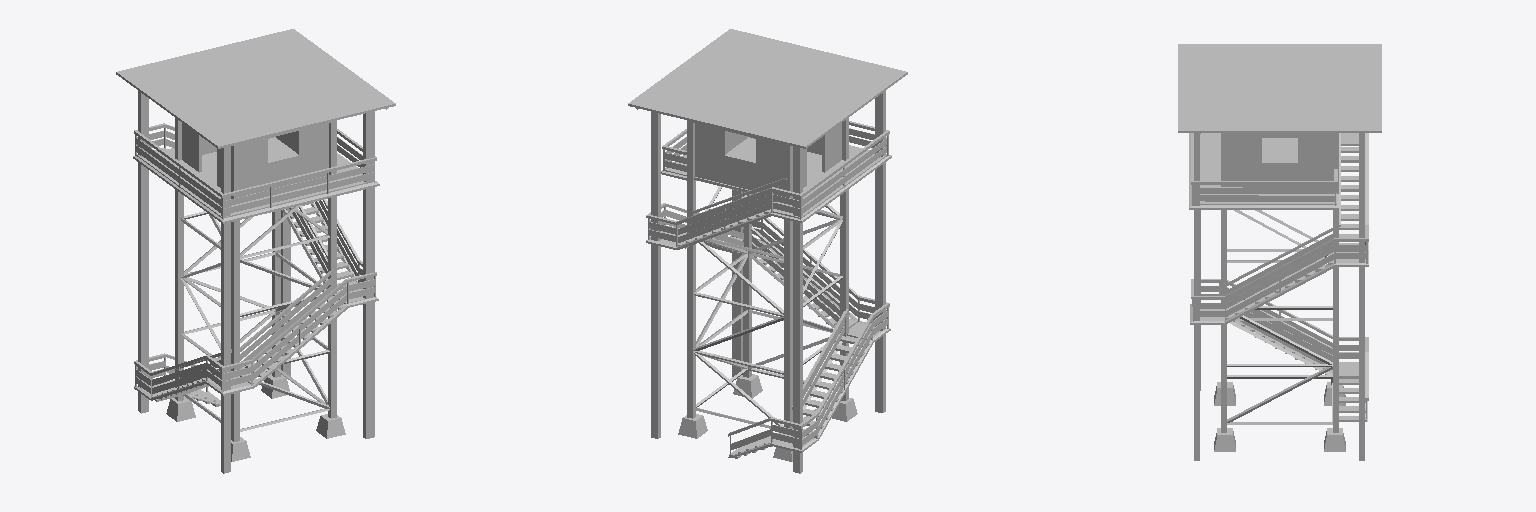
File: wooden watch tower23.obj
3 views of the same model, side by side, from view 1: azimuth 30°, elevation 25°; view 2: azimuth 150°, elevation 25°; view 3: azimuth 270°, elevation 25° (orthographic).
Visible parts, largest first — view 1: watchtowerHigh_watchtower.002; view 2: watchtowerHigh_watchtower.002; view 3: watchtowerHigh_watchtower.002.
Boxes of the visible parts, <box> form: watchtowerHigh_watchtower.002: <box>116,29,395,473</box>; watchtowerHigh_watchtower.002: <box>628,29,907,473</box>; watchtowerHigh_watchtower.002: <box>1178,44,1381,460</box>.
Bounding box in the file's own units: 4.22 × 7.65 × 4.22.